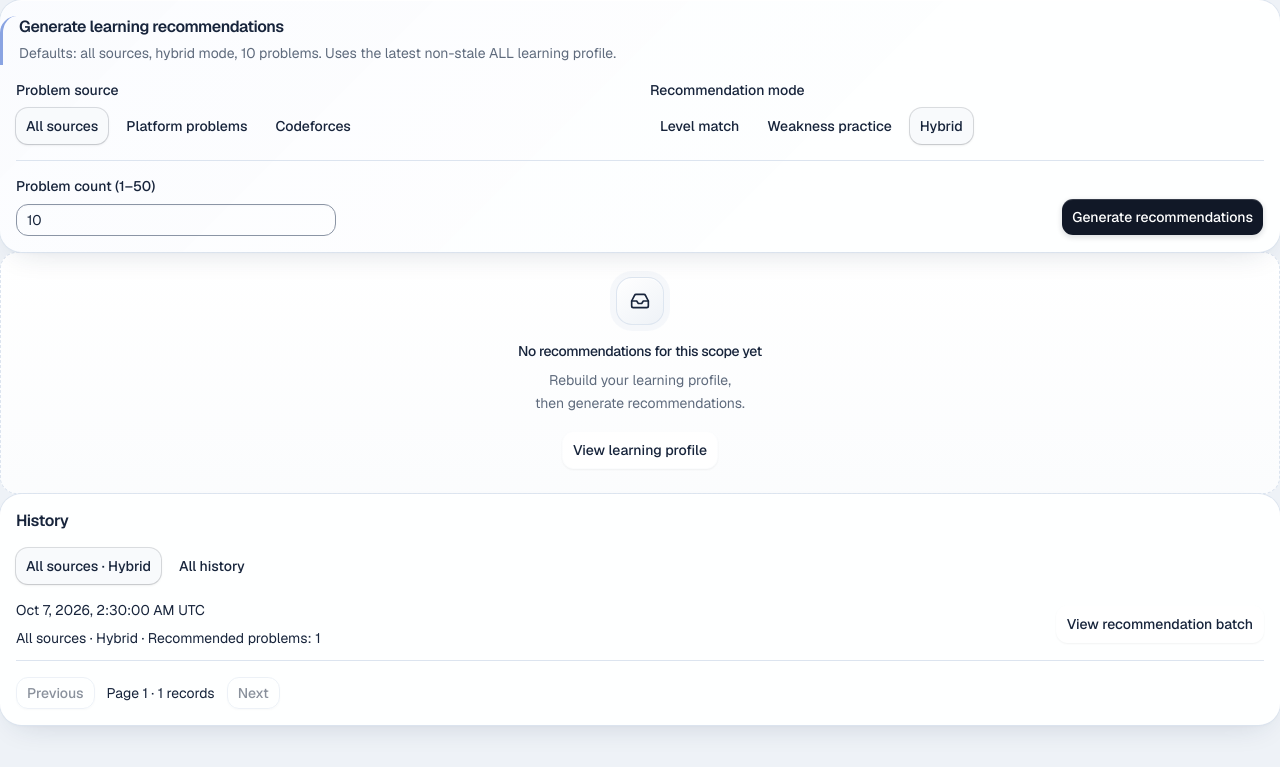
Test case: recommendation training loop › keeps an explicitly opened historical batch when an earlier generation resolves late
The width and height of the screenshot is (1280, 767).
Click the button "Generate recommendations" at (1163, 217), box [1061, 198, 1264, 236]
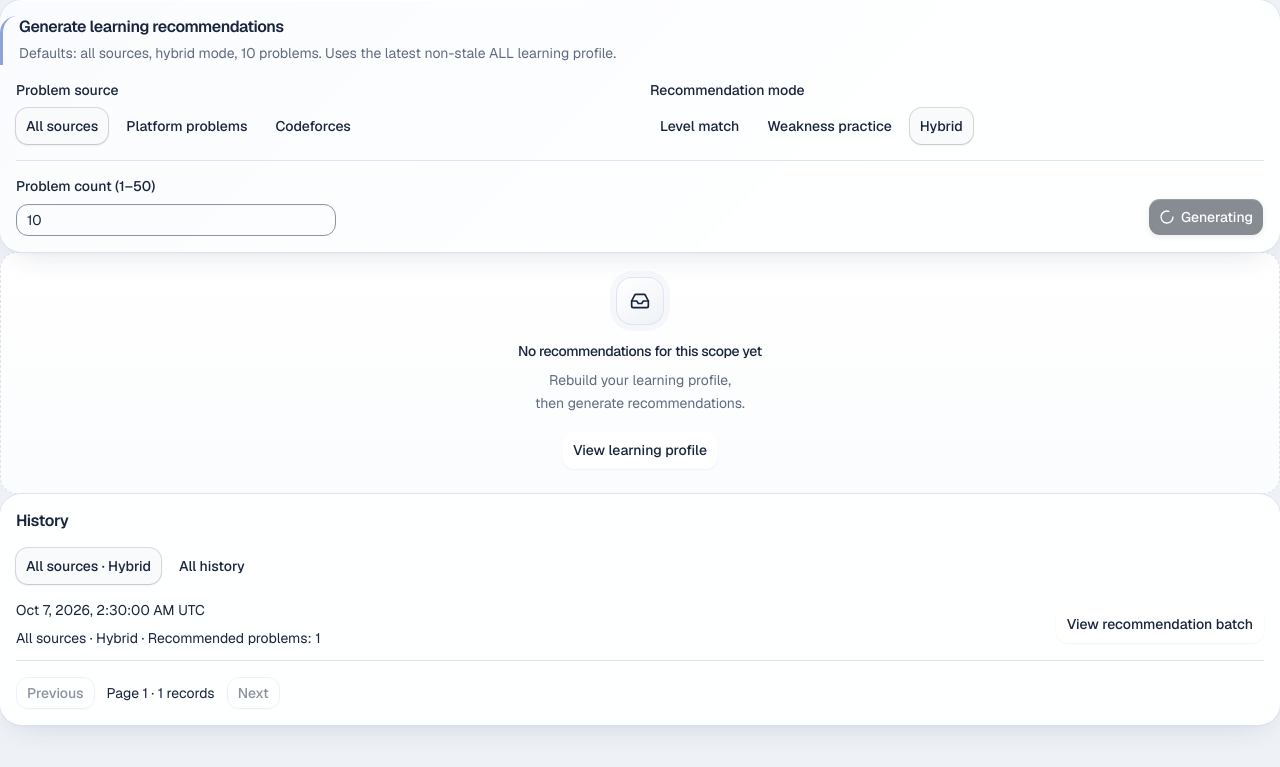
Now the button "Generating" is shown, box [1148, 198, 1264, 236]
Click the link "View recommendation batch" at (1160, 624), box [1056, 605, 1264, 643]
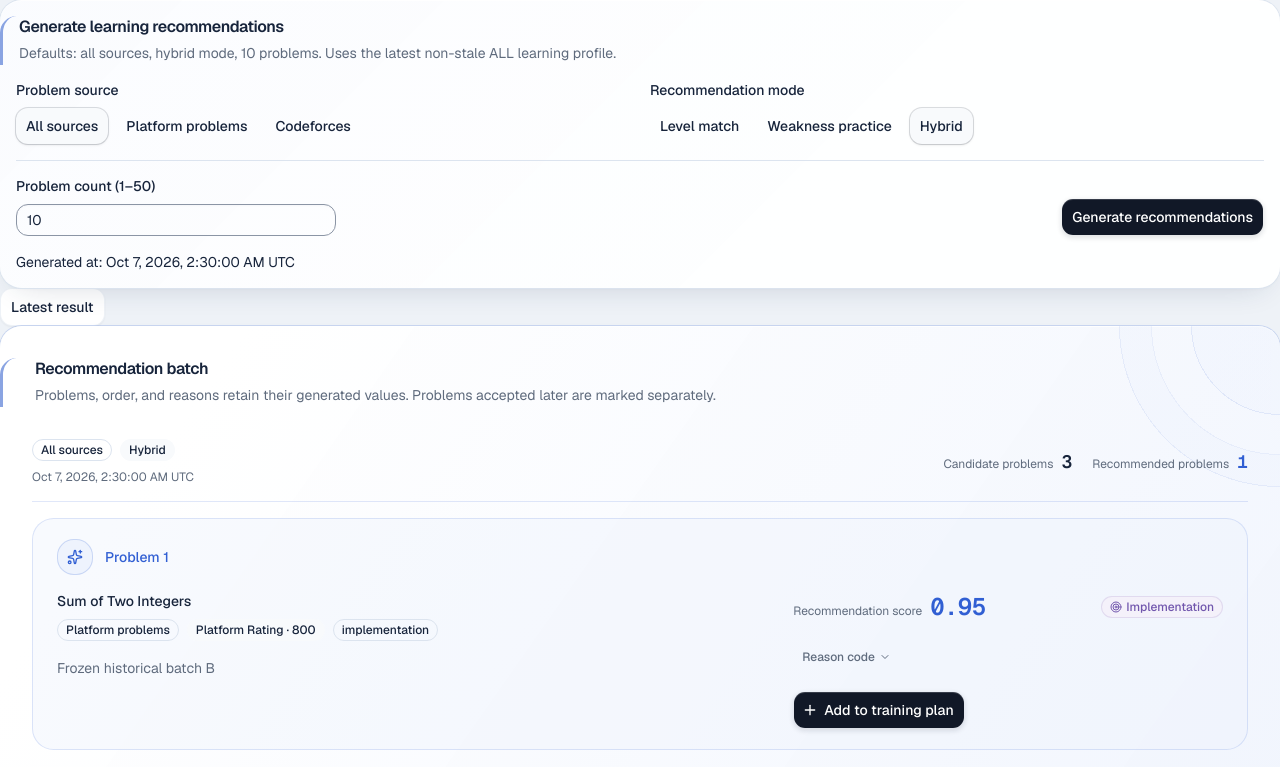
Now the button "Generate recommendations" is enabled, box [1061, 198, 1264, 236]
Now the text "Frozen historical batch B" is shown, box [57, 659, 215, 677]
